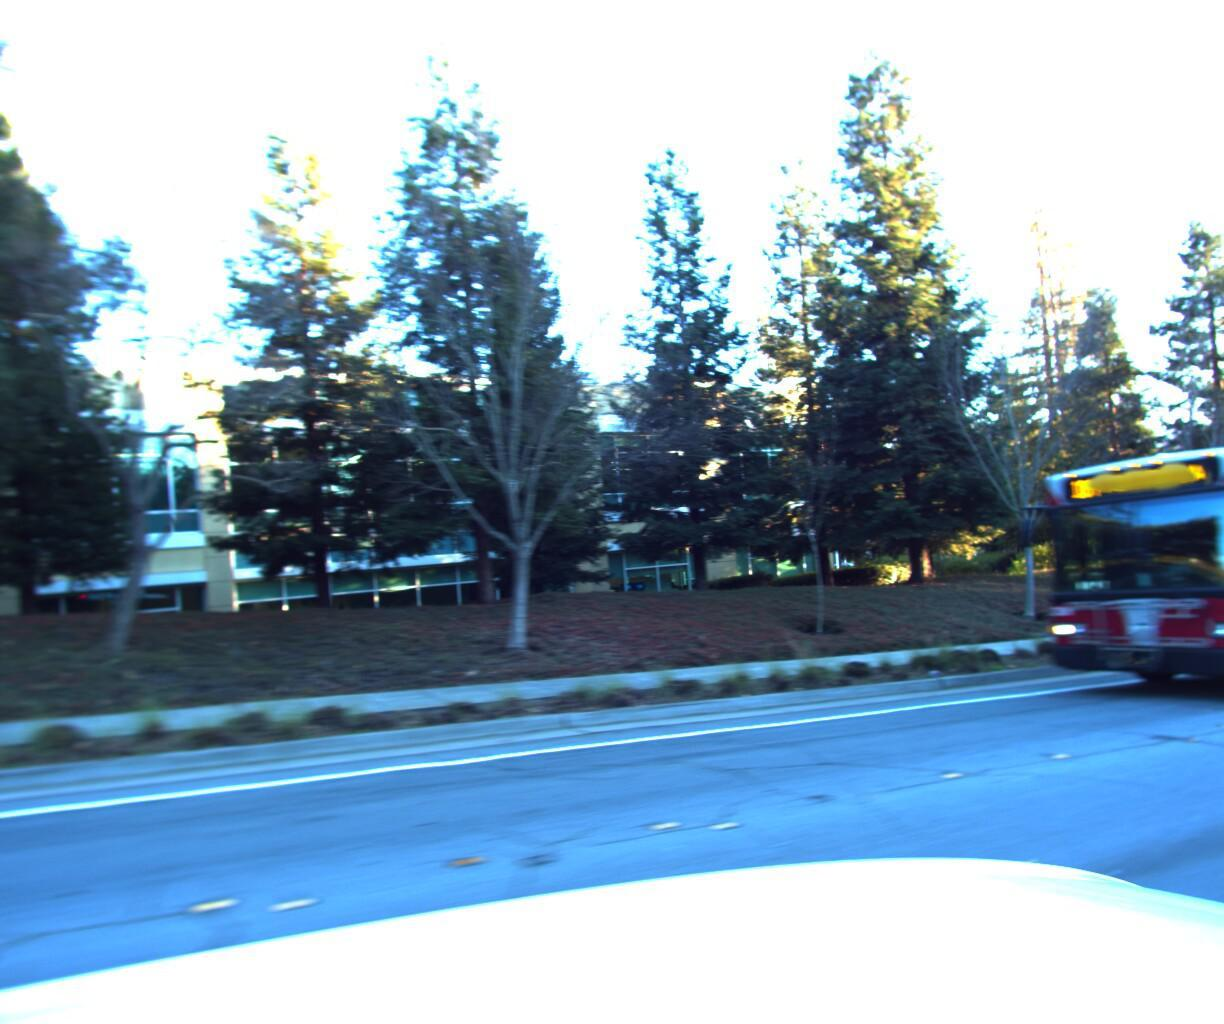bus: (991, 422, 1224, 789)
